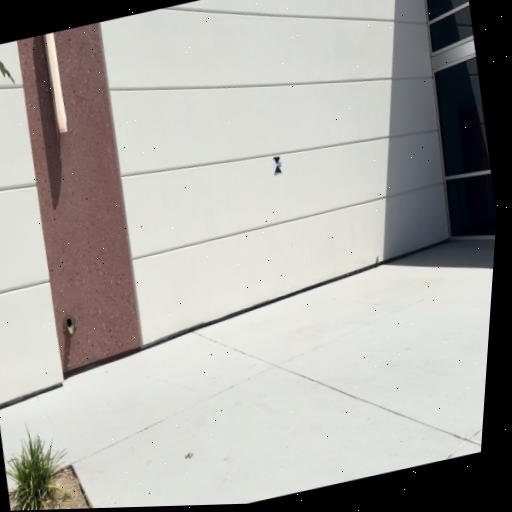target0: (271, 155, 285, 174)
